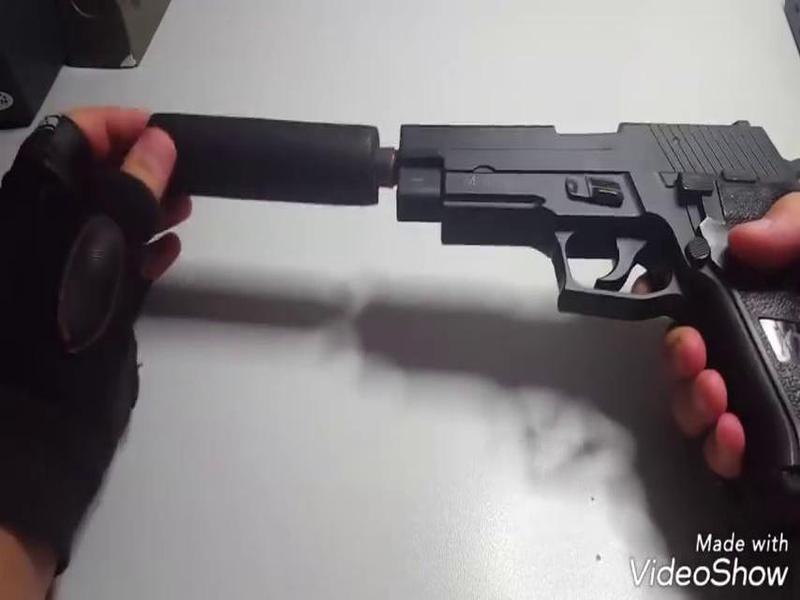Pistola: (397, 98, 800, 511)
